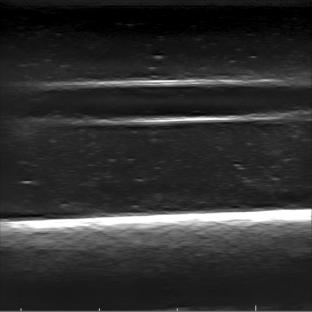vessel: (22, 77, 308, 126)
